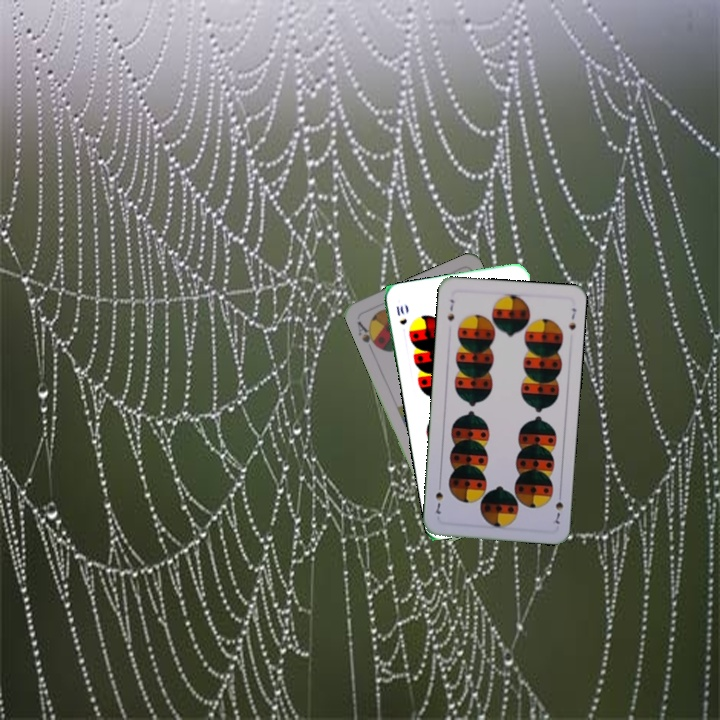S10: (392, 302, 409, 327)
S7: (549, 488, 566, 526), (443, 295, 457, 324)
SA: (353, 317, 382, 351)
